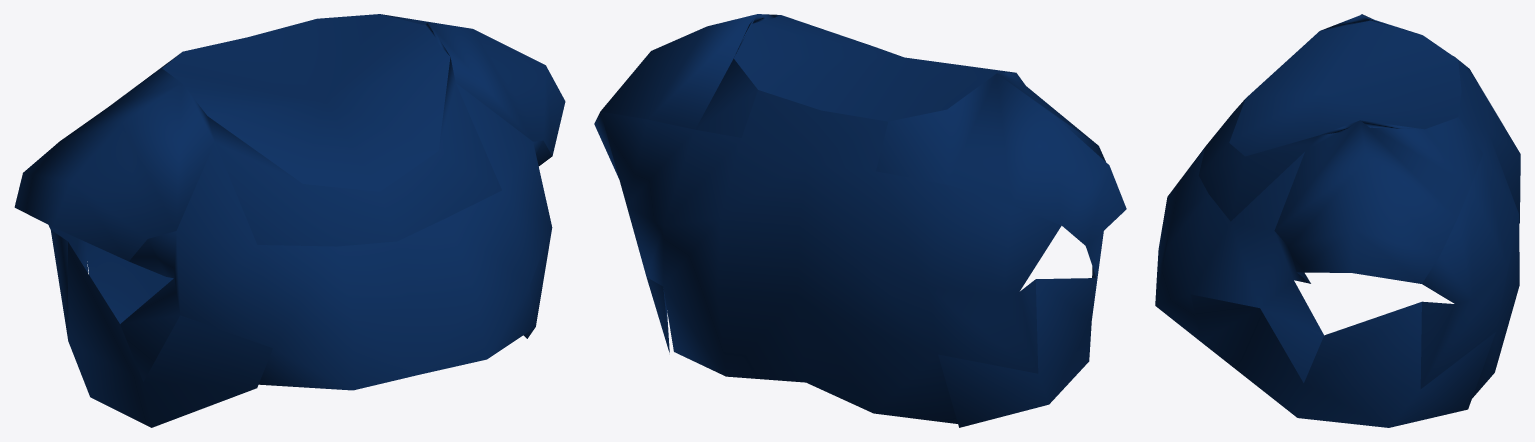
Rendered from spine2.glb.
3 views of the same model, side by side, from view 1: azimuth 30°, elevation 25°; view 2: azimuth 150°, elevation 25°; view 3: azimuth 270°, elevation 25° (orthographic). The views are drawn at different scales.
Parts seen in each view (by area): view 1: sweater-navy_SPINE2; view 2: sweater-navy_SPINE2; view 3: sweater-navy_SPINE2.
Boxes of the visible parts, left/top/right/bottom form: sweater-navy_SPINE2: left=14, top=14, right=565, bottom=427; sweater-navy_SPINE2: left=594, top=14, right=1126, bottom=427; sweater-navy_SPINE2: left=1155, top=14, right=1520, bottom=427.
Bounding box in the file's own units: 0.4747 × 0.2789 × 0.3328.
1 material, 1 textured.
